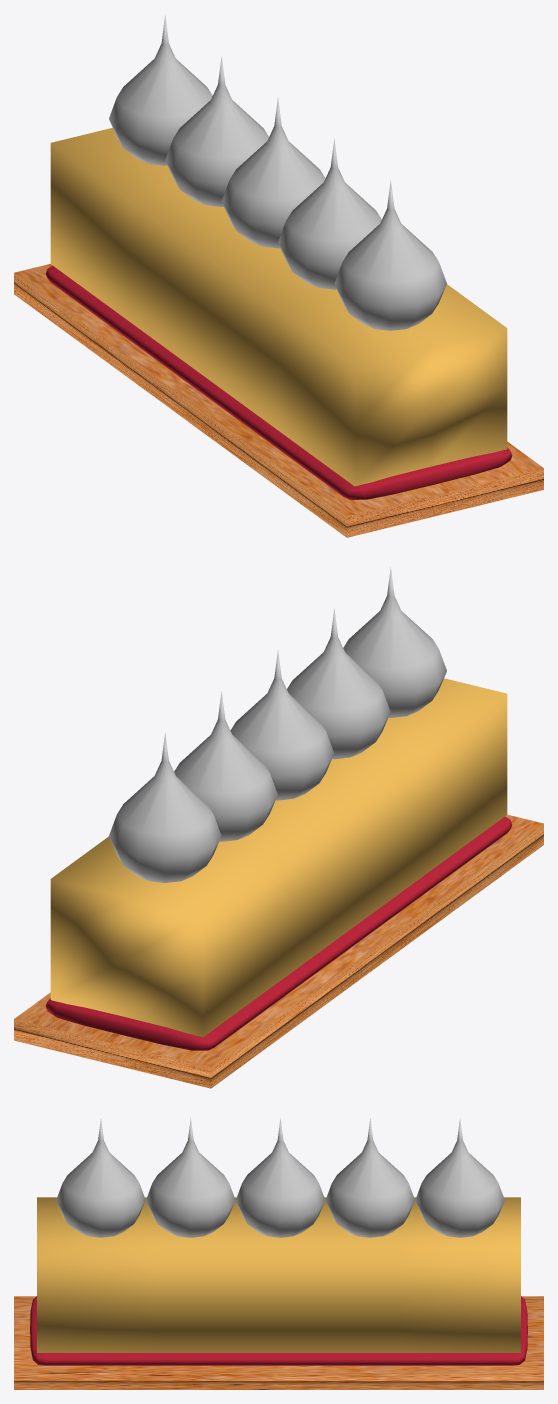
The model's file is lemon tart cake no plate.fbx.
The picture shows the model from 3 angles, top to bottom: view 1: azimuth 30°, elevation 25°; view 2: azimuth 150°, elevation 25°; view 3: azimuth 270°, elevation 25°; orthographic projection. The views are drawn at different scales.
Visible parts, largest first — view 1: lemon, meringue, base, strawberry; view 2: lemon, meringue, base, strawberry; view 3: lemon, meringue, base, strawberry.
Boxes of the visible parts, left/top/right/bottom form: lemon: left=50, top=128, right=507, bottom=486; meringue: left=109, top=15, right=446, bottom=330; base: left=14, top=264, right=543, bottom=537; strawberry: left=46, top=265, right=512, bottom=499; lemon: left=50, top=678, right=507, bottom=1037; meringue: left=109, top=567, right=446, bottom=882; base: left=14, top=814, right=543, bottom=1088; strawberry: left=45, top=816, right=512, bottom=1050; lemon: left=37, top=1197, right=520, bottom=1352; meringue: left=56, top=1117, right=504, bottom=1237; base: left=14, top=1296, right=543, bottom=1389; strawberry: left=30, top=1296, right=527, bottom=1365.
Bounding box in the file's own units: 80.12 × 114 × 234.
